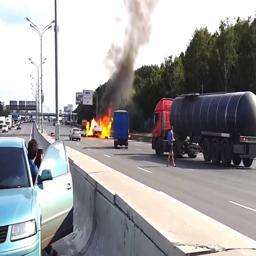fire: (86, 105, 113, 139)
